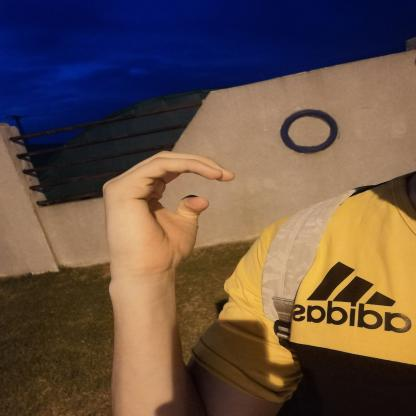JEEM: (87, 144, 244, 296)
